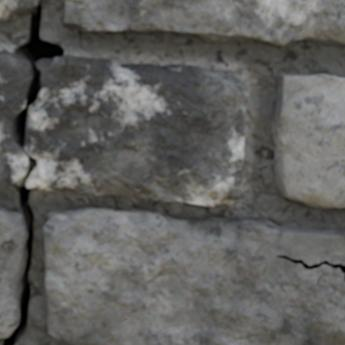brick: (43, 207, 344, 344), (61, 0, 344, 46), (272, 75, 344, 208), (0, 207, 27, 337), (0, 0, 38, 20)
broken_brick: (28, 55, 249, 207), (0, 50, 30, 187)
crack: (0, 0, 65, 344), (275, 254, 344, 281)
